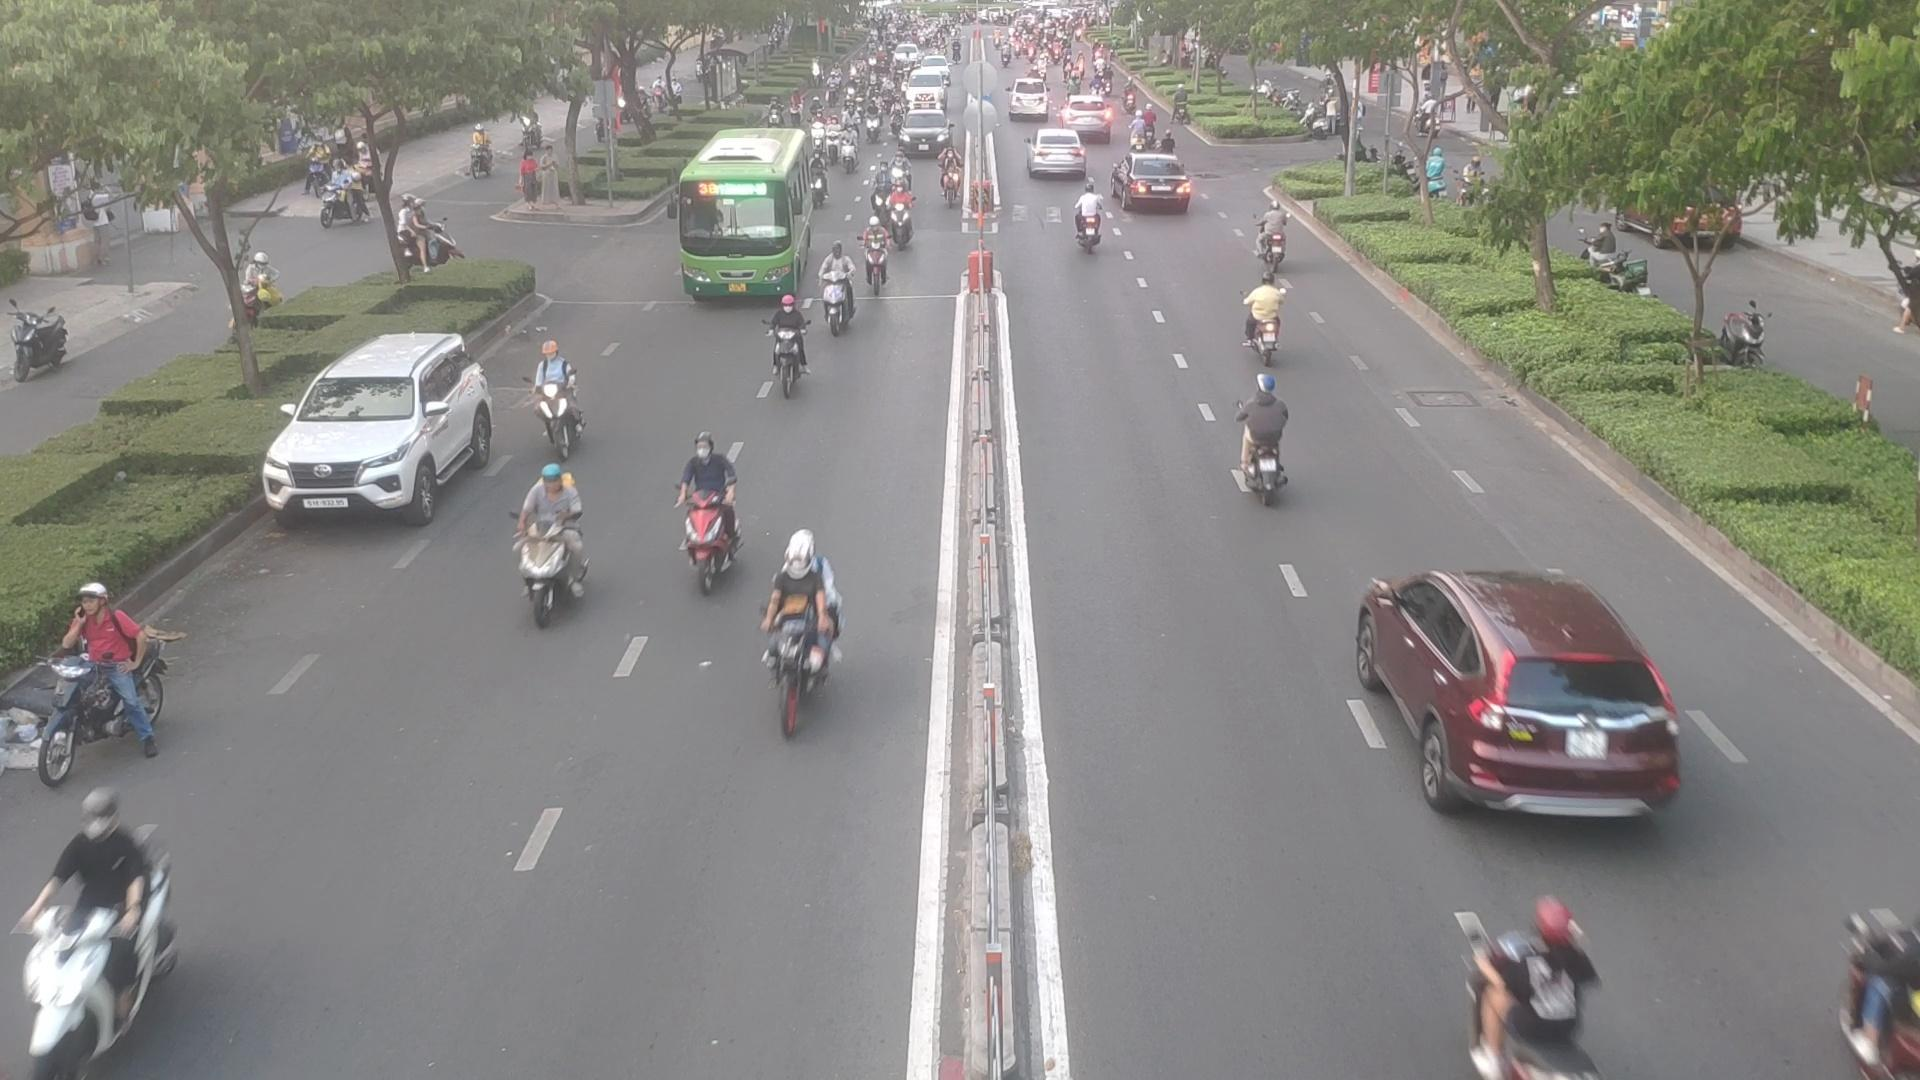bus: (665, 123, 804, 305)
car: (1346, 568, 1684, 822), (266, 332, 510, 527), (1109, 152, 1193, 212), (1027, 131, 1089, 181)
motorbike: (8, 810, 175, 1077), (9, 588, 167, 778), (1457, 894, 1605, 1077), (753, 553, 856, 738), (1838, 899, 1920, 1080), (516, 465, 603, 615), (676, 436, 745, 589), (1229, 381, 1305, 502), (760, 294, 828, 394), (531, 334, 584, 454), (810, 251, 870, 334), (1245, 280, 1287, 359), (1069, 189, 1112, 255), (1253, 214, 1298, 272), (876, 195, 911, 251)
